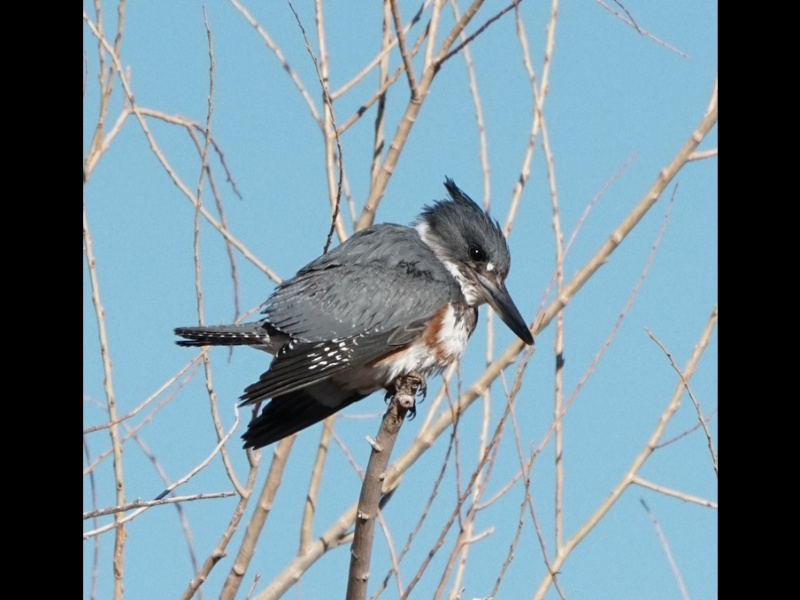kingfisher: (170, 173, 538, 456)
